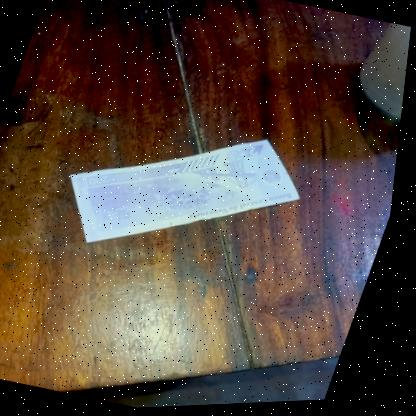vef_back: (49, 96, 328, 293)
